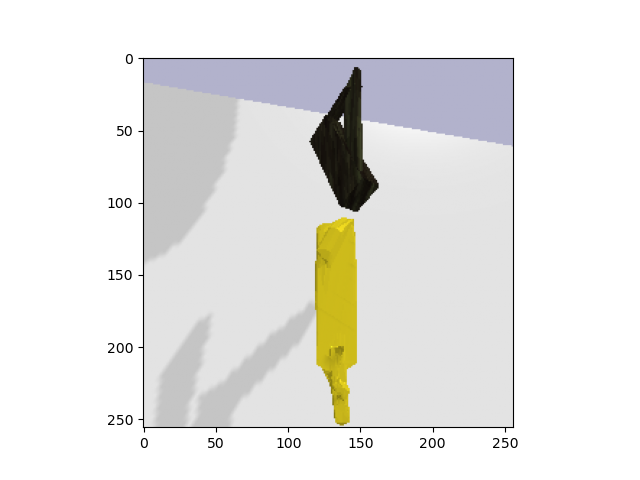v249b387_108: (312, 216, 377, 426)
v249b387_109: (306, 67, 391, 213)
